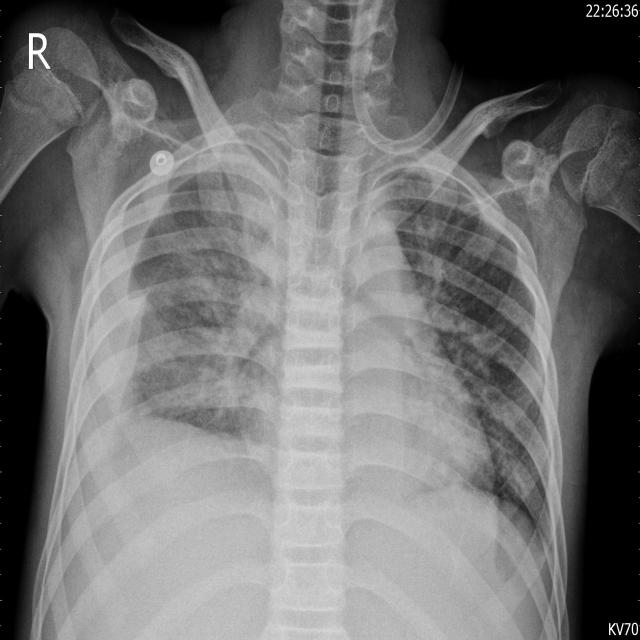low-pneumonia: (127, 321, 248, 435)
